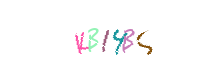1: (69, 0, 149, 80)
4: (71, 0, 151, 80)
5: (104, 0, 184, 80)
B: (67, 0, 147, 80), (78, 0, 158, 80)
K: (58, 0, 138, 80)
